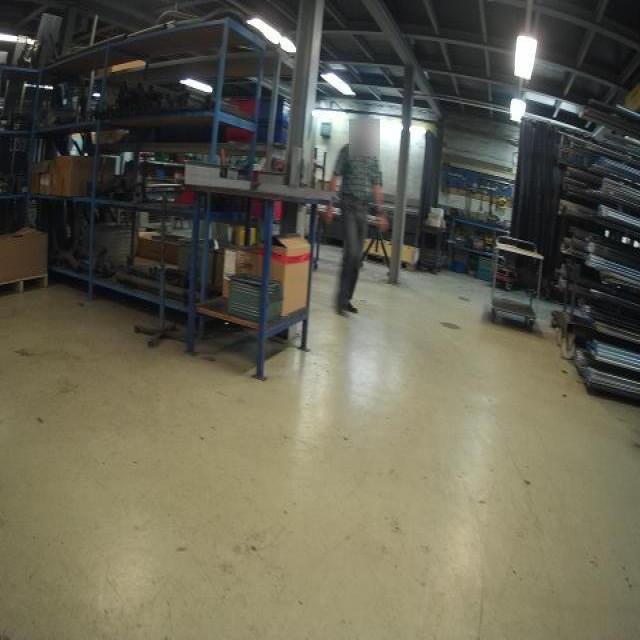pallet: (0, 271, 51, 301), (362, 251, 420, 273)
small_load_carrier: (258, 93, 295, 121), (256, 124, 291, 145)
